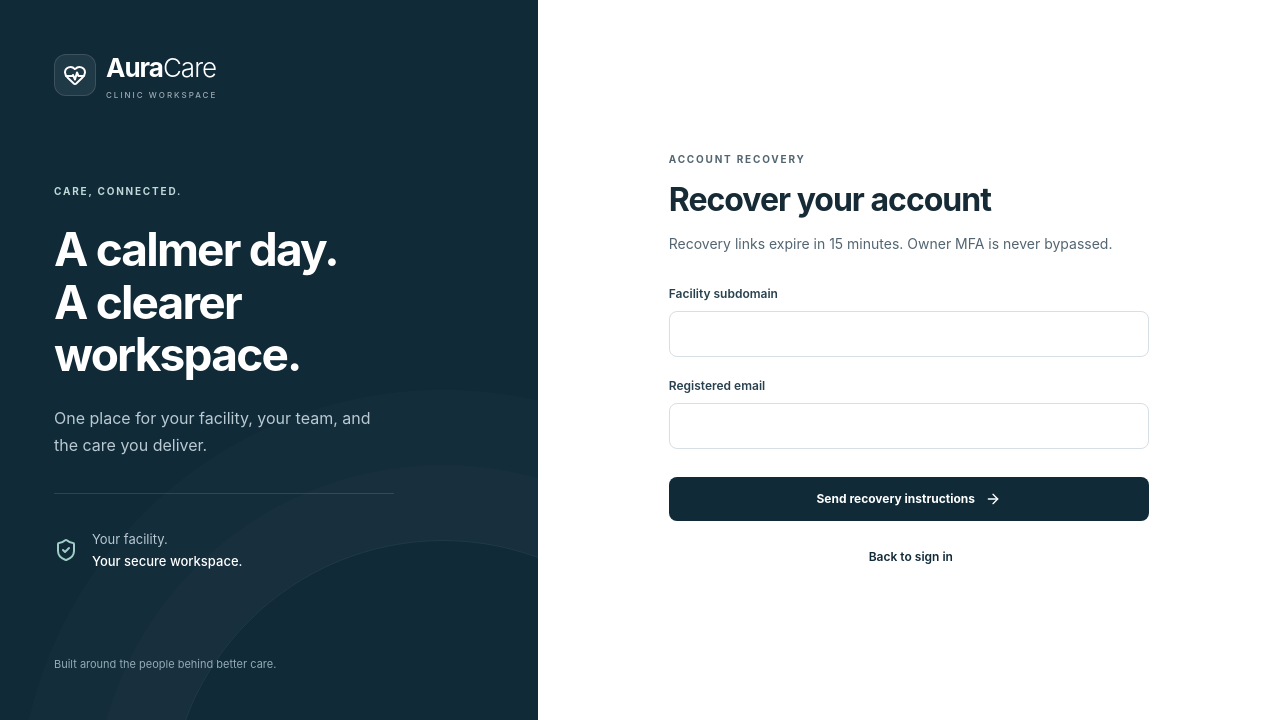
Test: Phase 1 accessible user journeys › uses generic recovery messaging
Type "alpha" into the field labelled "Facility subdomain".
click(909, 334); type("alpha")  # box x1=669 y1=311 x2=1149 y2=357
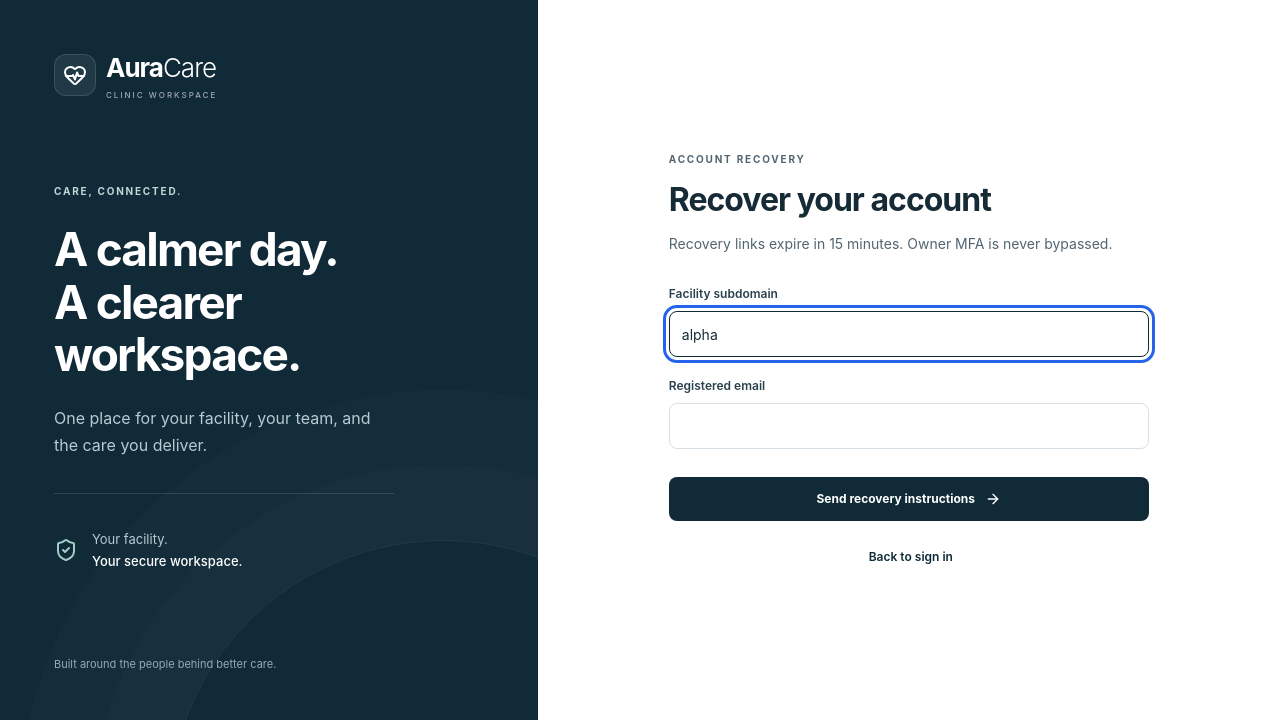
Type "alex@test.test" into the field labelled "Registered email".
click(909, 426); type("alex@test.test")  # box x1=669 y1=403 x2=1149 y2=449
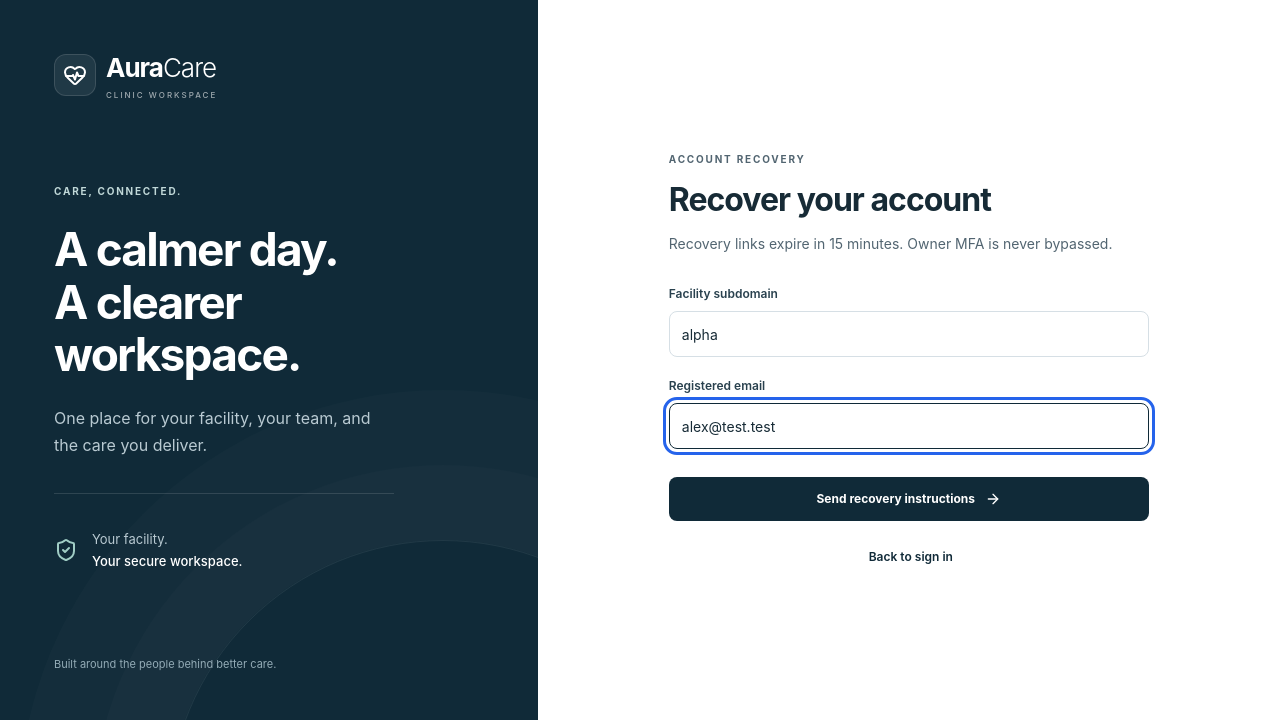
Click the button "Send recovery instructions".
click(909, 499)  # box x1=669 y1=477 x2=1149 y2=521
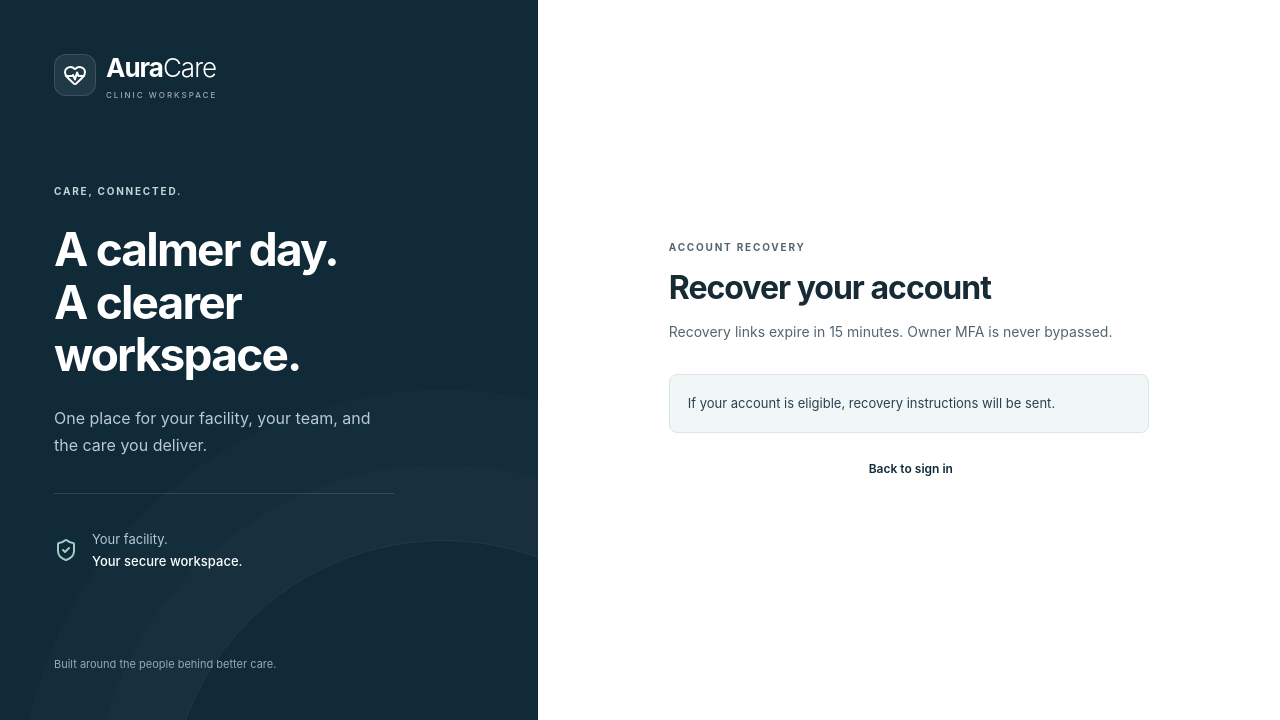
Now the message shows "If your account is eligible", box x1=688 y1=395 x2=1055 y2=411
